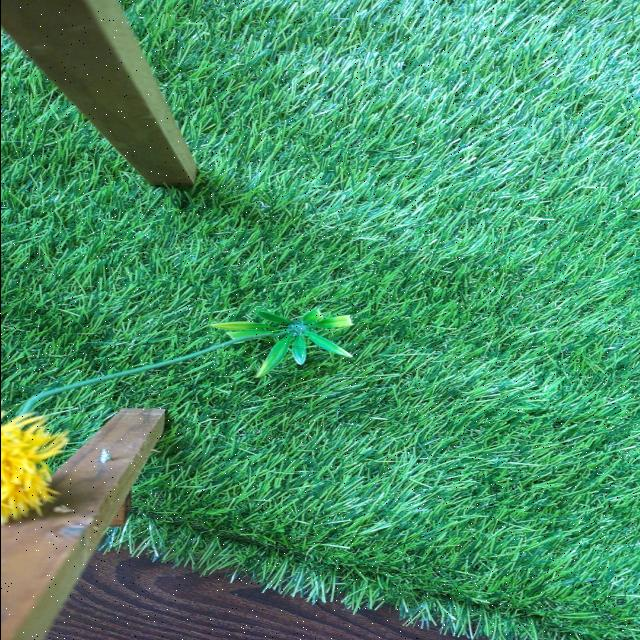base: (210, 308, 352, 378)
flower: (0, 412, 65, 524)
